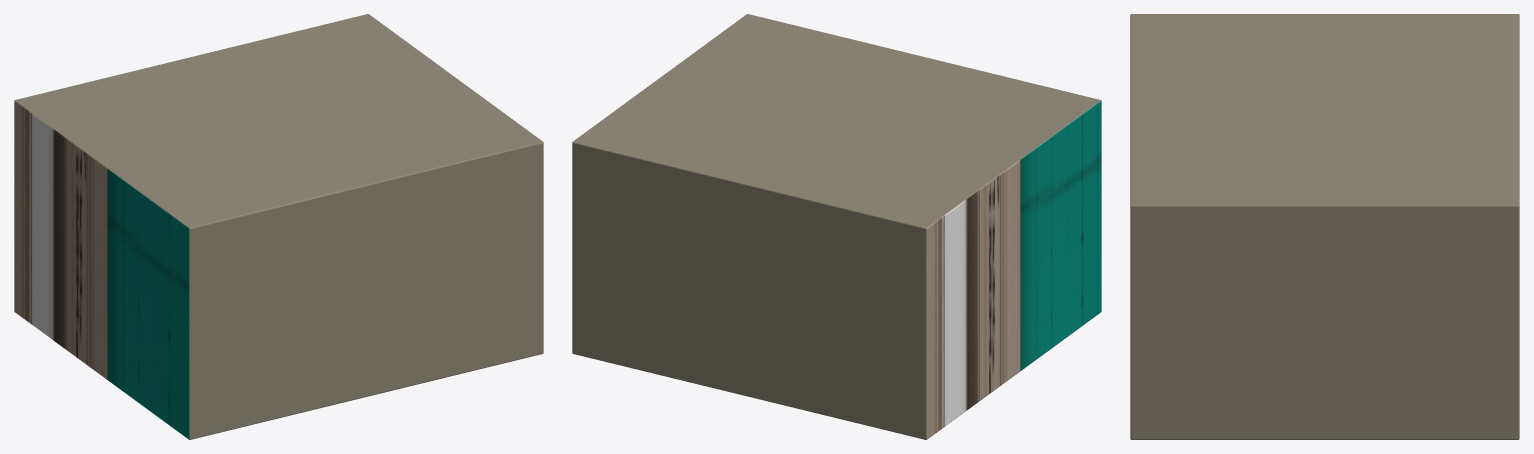
File: Oscilograph.fbx
The picture shows the model from 3 angles, left to right: view 1: azimuth 30°, elevation 25°; view 2: azimuth 150°, elevation 25°; view 3: azimuth 270°, elevation 25°; orthographic projection. The views are drawn at different scales.
Visible parts, largest first — view 1: Cube.001; view 2: Cube.001; view 3: Cube.001.
Part boxes in pixels (box(x1,y1,x2,y2)): Cube.001: box(14, 14, 543, 439); Cube.001: box(572, 14, 1101, 439); Cube.001: box(1130, 14, 1519, 439).
Bounding box in the file's own units: 35 × 20 × 30.
